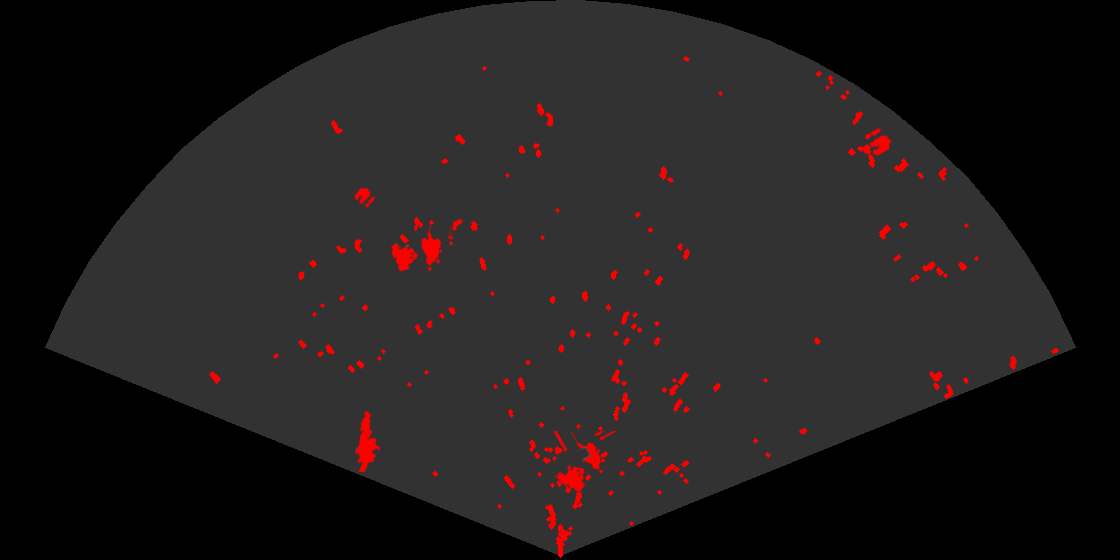ball: (863, 127, 893, 157), (353, 186, 377, 209)
cage: (552, 431, 618, 493), (389, 225, 453, 273)
frogman: (354, 409, 382, 472)
